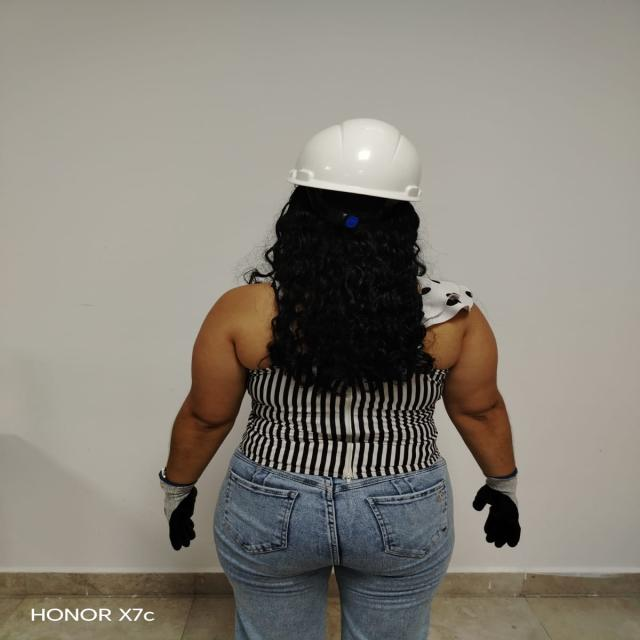gloves: (466, 469, 533, 548), (147, 470, 203, 555)
helmet: (282, 108, 434, 207)
